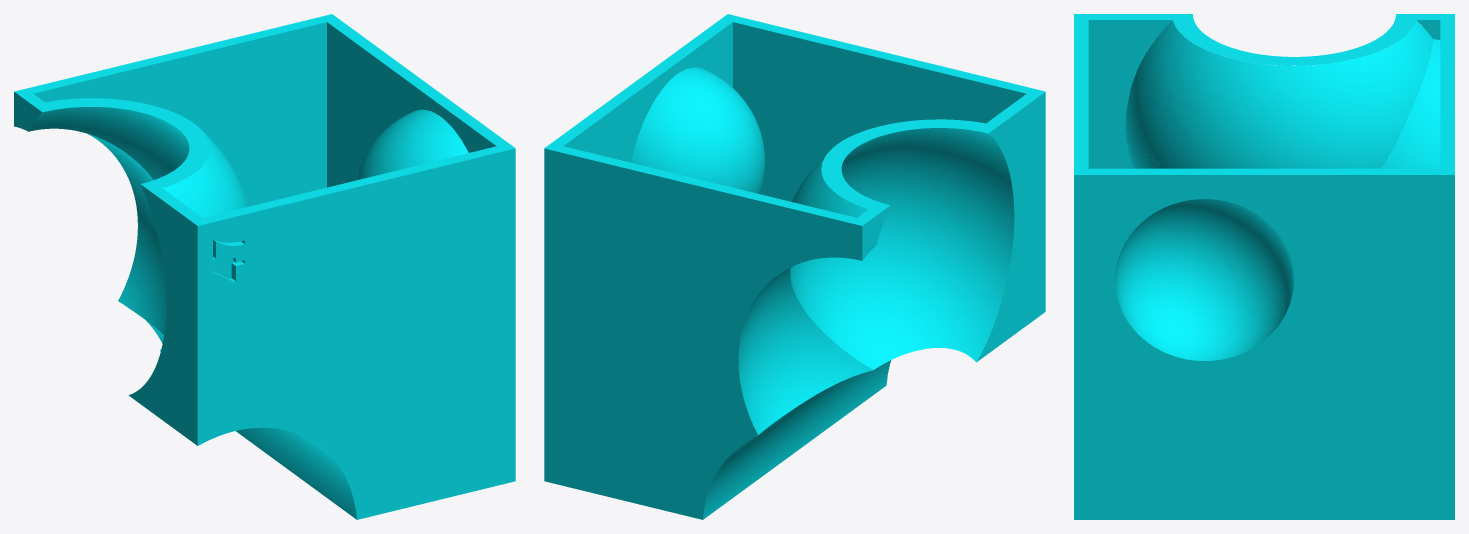
The picture shows the model from 3 angles, left to right: view 1: azimuth 30°, elevation 25°; view 2: azimuth 150°, elevation 25°; view 3: azimuth 270°, elevation 25°; orthographic projection. The views are drawn at different scales.
Parts seen in each view (by area): view 1: 70_vars_w-txt; view 2: 70_vars_w-txt; view 3: 70_vars_w-txt.
Boxes of the visible parts, x1=… form: 70_vars_w-txt: x1=14, y1=14, x2=515, y2=519; 70_vars_w-txt: x1=544, y1=14, x2=1045, y2=519; 70_vars_w-txt: x1=1074, y1=14, x2=1454, y2=519.
Bounding box in the file's own units: 0.042 × 0.042 × 0.042.
